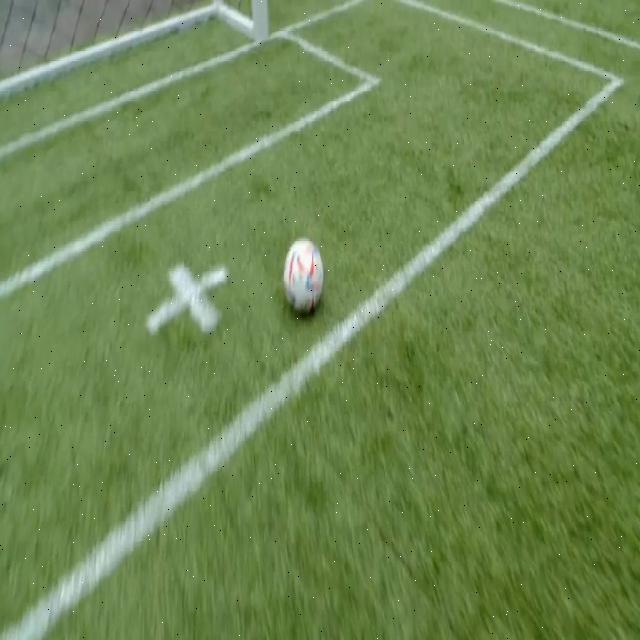ball: (284, 238, 324, 316)
goalpost: (244, 0, 274, 46)
